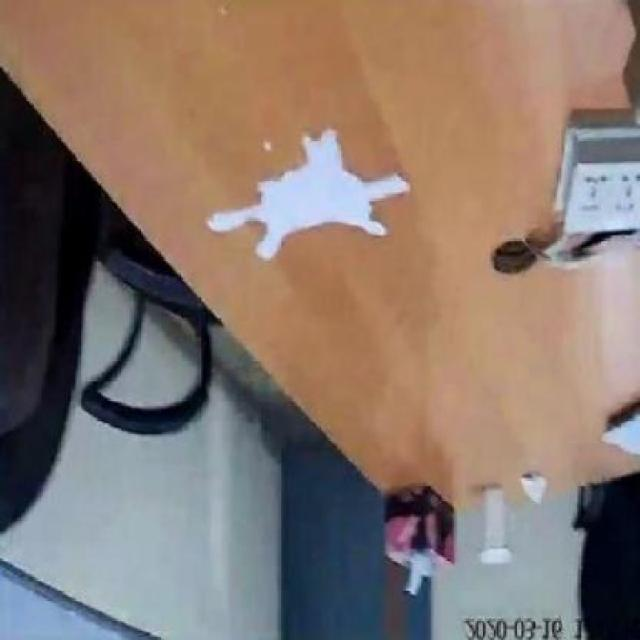spillage: (202, 122, 411, 259)
